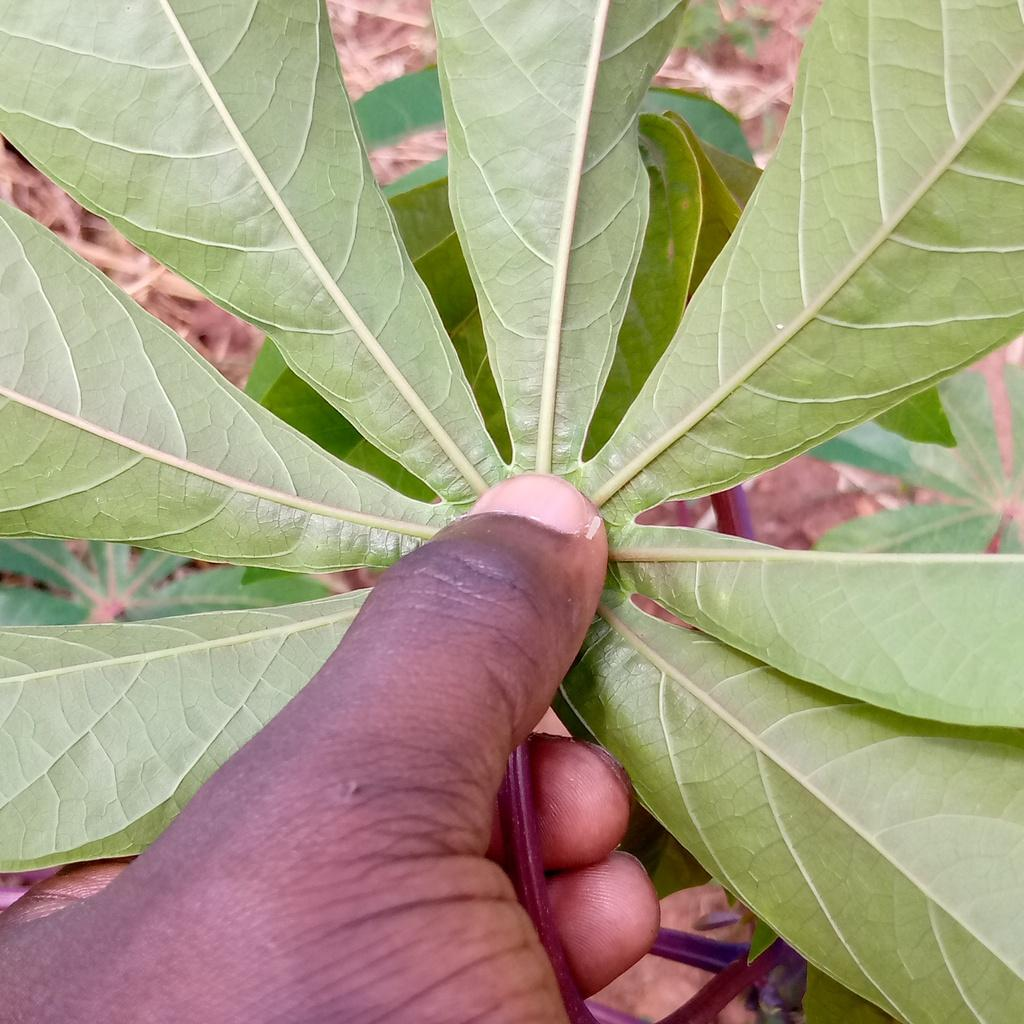adult: (775, 323, 784, 330)
